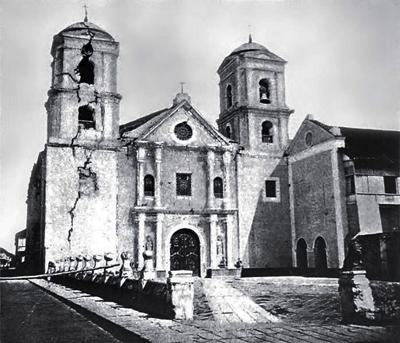crack: (78, 151, 101, 180), (69, 191, 82, 240), (79, 22, 100, 44), (72, 83, 88, 104), (71, 126, 84, 148)
